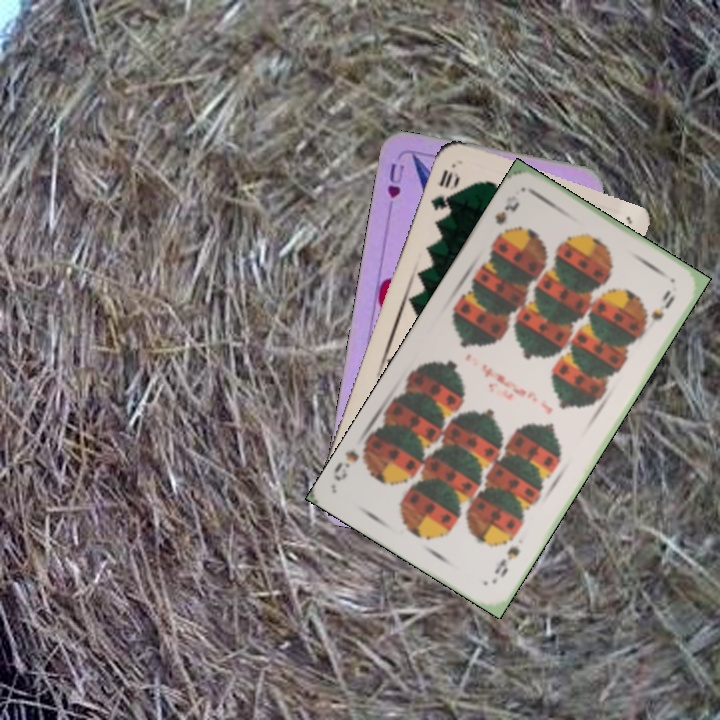G10: (426, 165, 462, 214)
HU: (383, 159, 407, 214)
S9: (490, 198, 523, 243), (490, 542, 523, 581)
